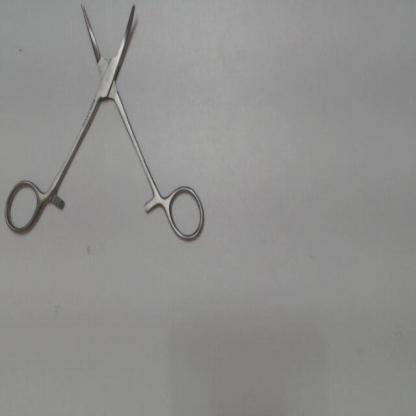Crile Artery Forceps: (0, 1, 216, 248)
